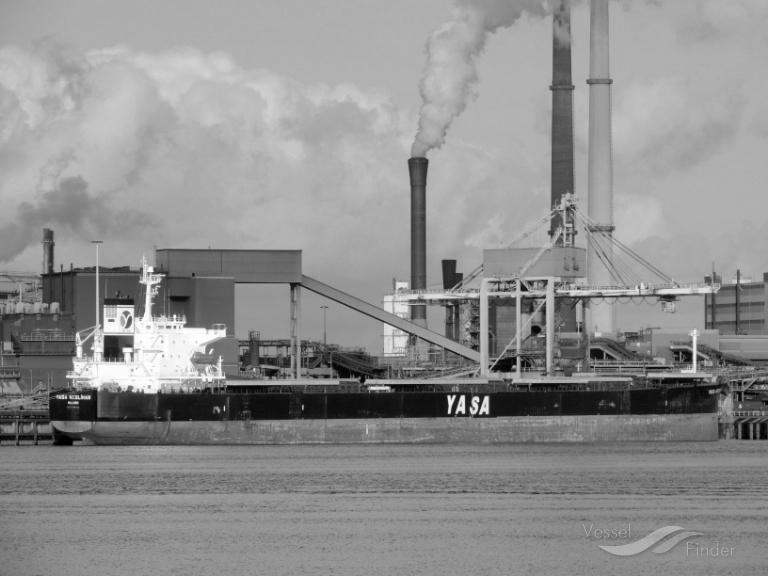OCR: (437, 389, 497, 418)
